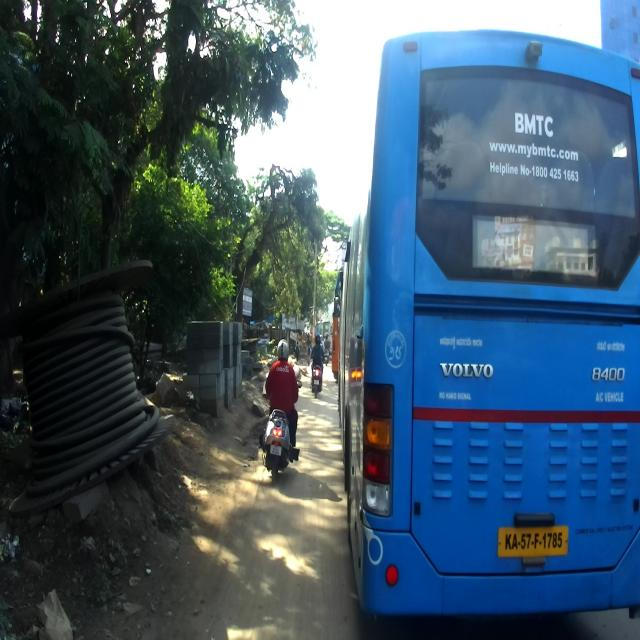bus: (334, 27, 640, 633)
scooter: (258, 370, 302, 484)
